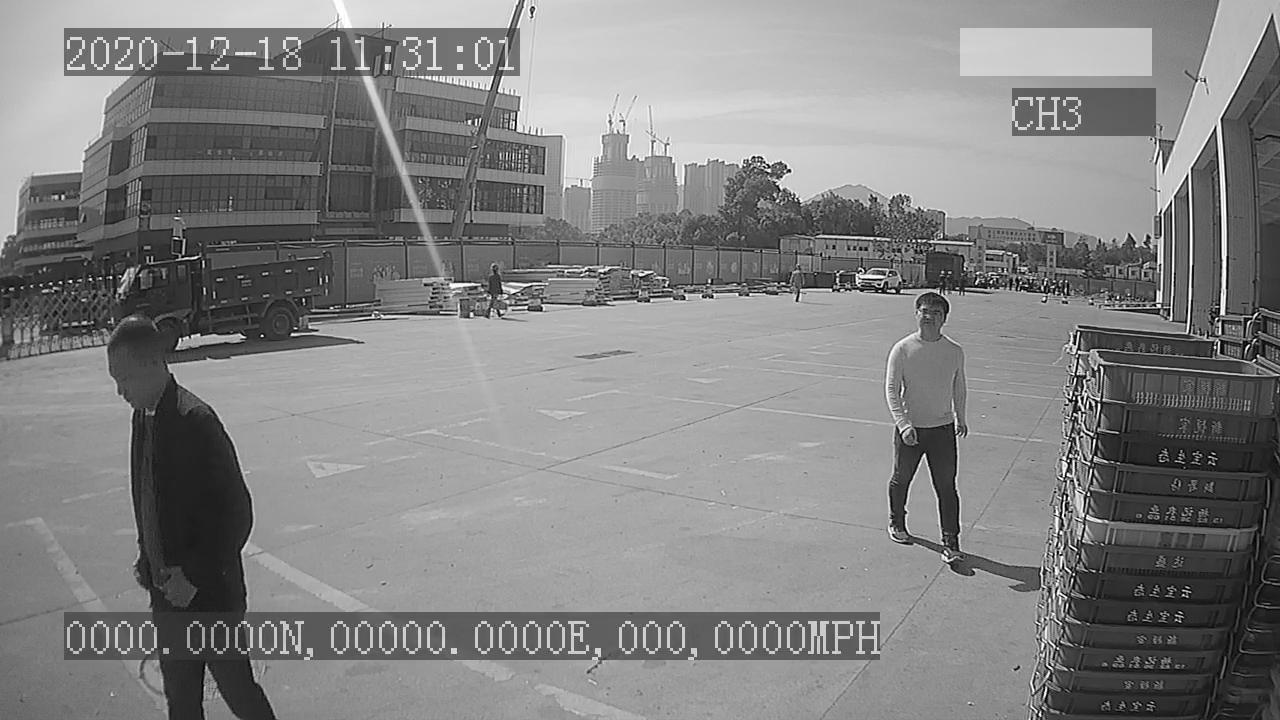person: (880, 287, 975, 569)
